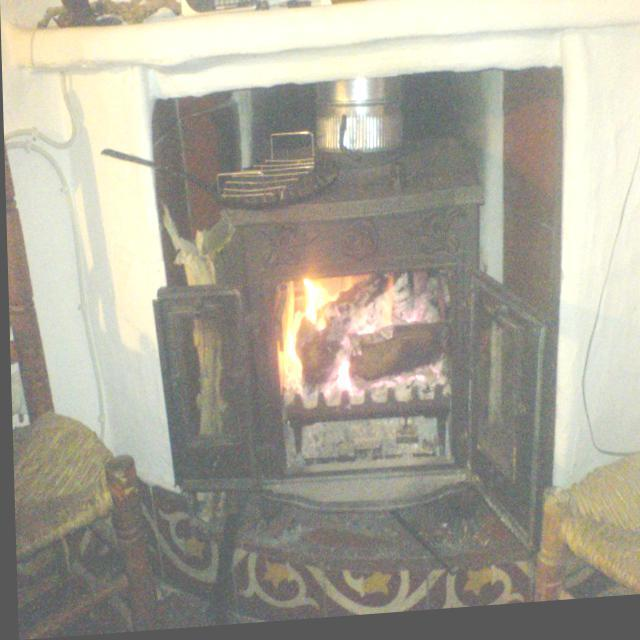Fire: (264, 274, 347, 402)
